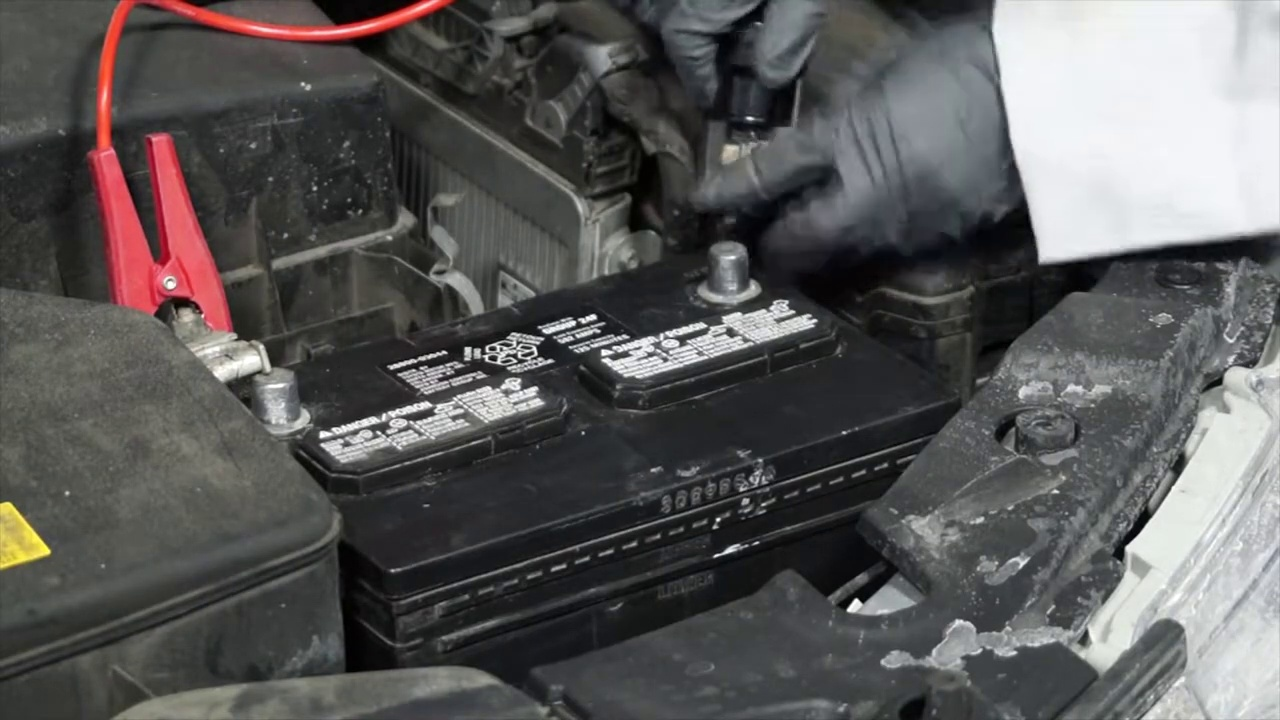battery: (195, 227, 954, 529)
neg_touched: (654, 54, 834, 308)
pos_disconnected: (80, 222, 329, 438)
